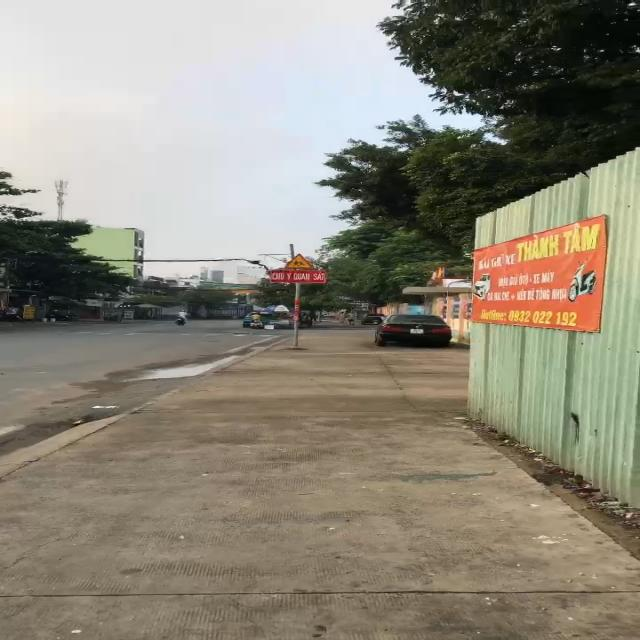Bien bao tre em: (283, 253, 314, 269)
